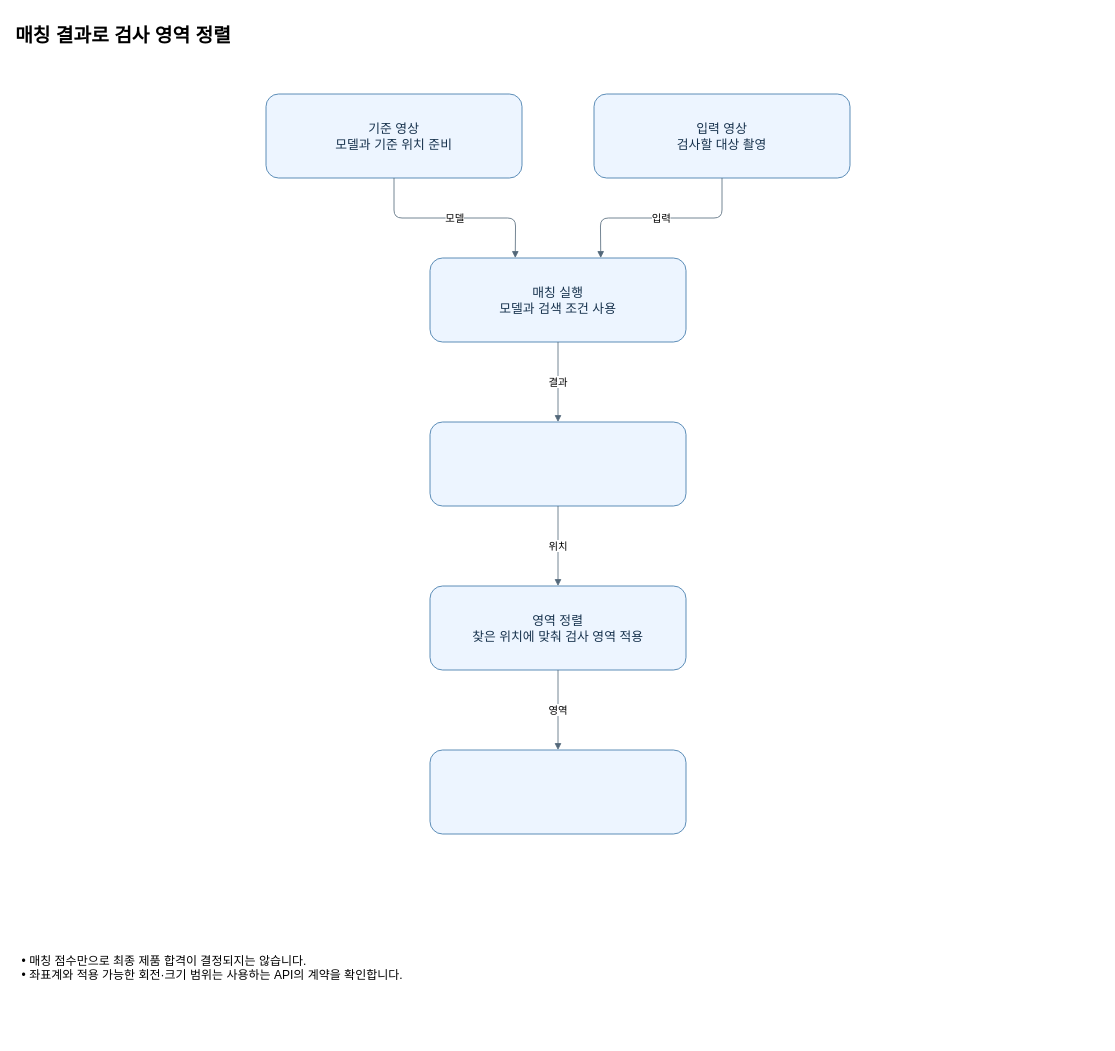
The diagram is 1115 pixels wide and 1051 high, and some of its shapes have lost their labels. Here are the shapes that lost their labels. From the top down, the centre of each, then its label:
At [557,463]: "후보 결과 위치·점수 등 결과 확인".
At [557,791]: "검사와 판정 측정값을 별도 기준과 비교".
